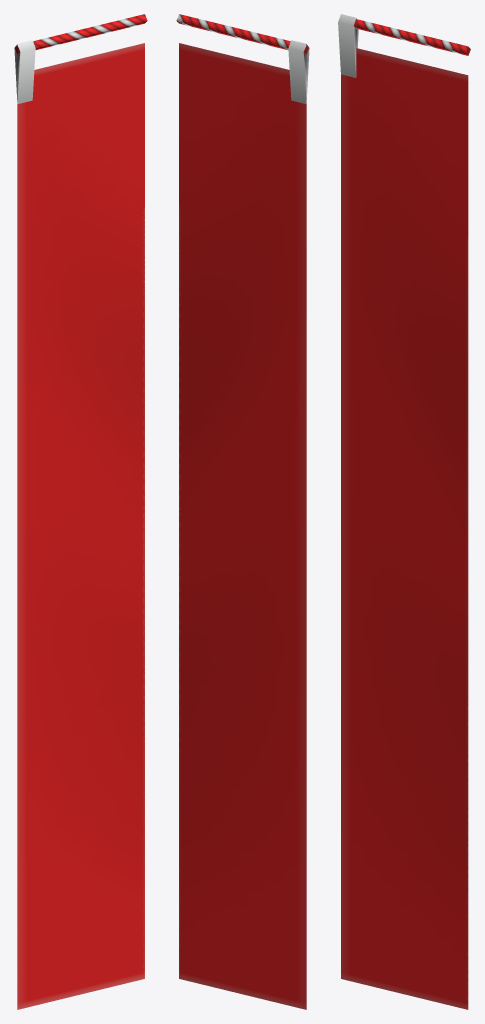
The model's file is set_redandwhite_curtain_04.fbx.
3 renders of one model, left to right at view 1: azimuth 30°, elevation 25°; view 2: azimuth 150°, elevation 25°; view 3: azimuth 330°, elevation 25°, orthographic.
Parts seen in each view (by area): view 1: set_redandwhite_curtain_04; view 2: set_redandwhite_curtain_04; view 3: set_redandwhite_curtain_04.
Part boxes in pixels (x1,y1,x2,y2): set_redandwhite_curtain_04: (14, 14, 147, 1009); set_redandwhite_curtain_04: (176, 14, 309, 1009); set_redandwhite_curtain_04: (338, 14, 470, 1009).
Bounding box in the file's own units: 25 × 181 × 2.01.
